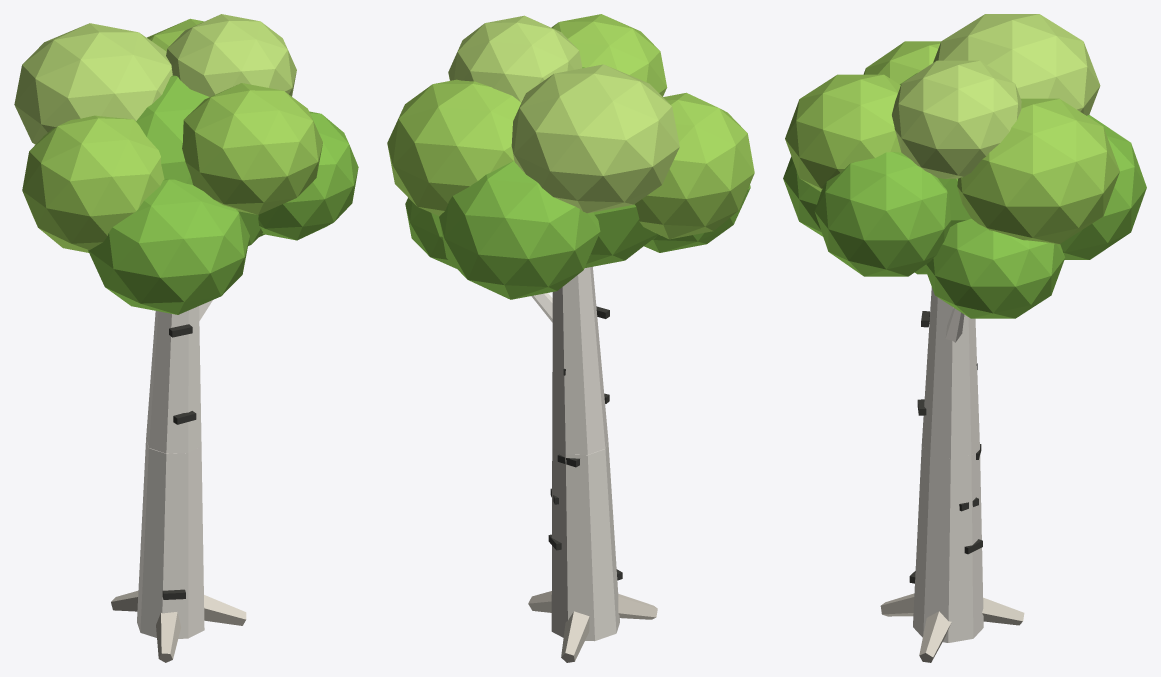
The model's file is tree-birch.glb.
3 views of the same model, side by side, from view 1: azimuth 30°, elevation 25°; view 2: azimuth 150°, elevation 25°; view 3: azimuth 270°, elevation 25° (orthographic).
Visible parts, largest first — view 1: Birch_Crown, Birch_Trunk; view 2: Birch_Crown, Birch_Trunk; view 3: Birch_Crown, Birch_Trunk.
Boxes of the visible parts, x1,y1,x2,y2 form: Birch_Crown: (14,14,358,314); Birch_Trunk: (111,300,246,662); Birch_Crown: (387,14,754,299); Birch_Trunk: (528,266,657,662); Birch_Crown: (783,14,1146,318); Birch_Trunk: (880,287,1024,662).
Bounding box in the file's own units: 1.35 × 2.61 × 1.44.
